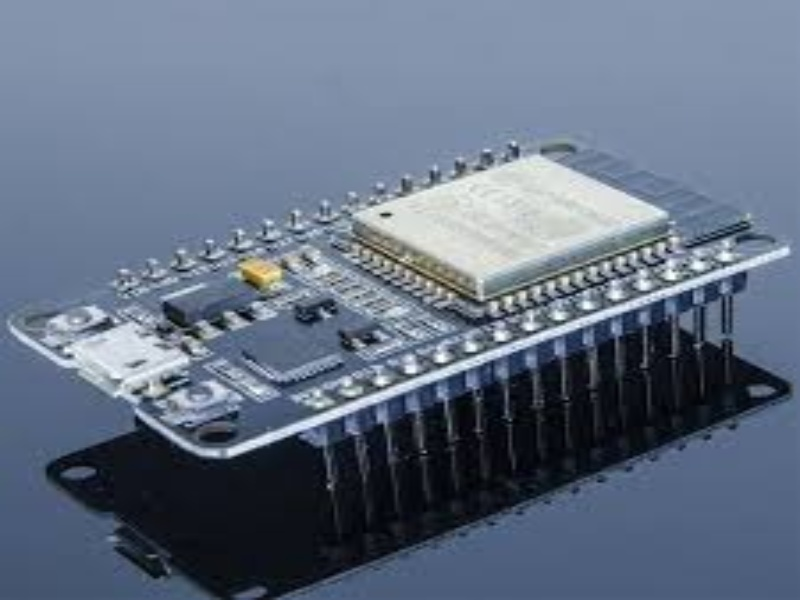esp32: (34, 110, 789, 485)
